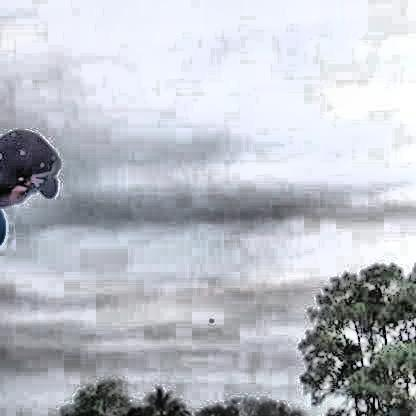golfball: (207, 315, 212, 321)
